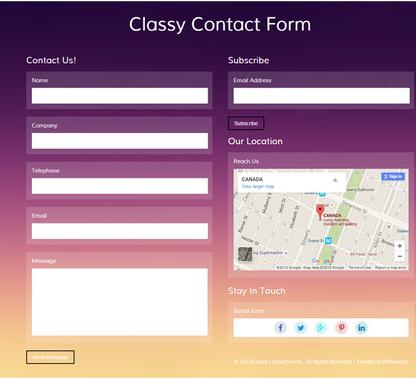button: (25, 349, 78, 365), (227, 115, 267, 132)
field: (29, 266, 210, 338), (30, 175, 211, 196), (30, 131, 210, 152), (30, 86, 211, 106), (231, 86, 411, 106), (30, 221, 209, 241)
